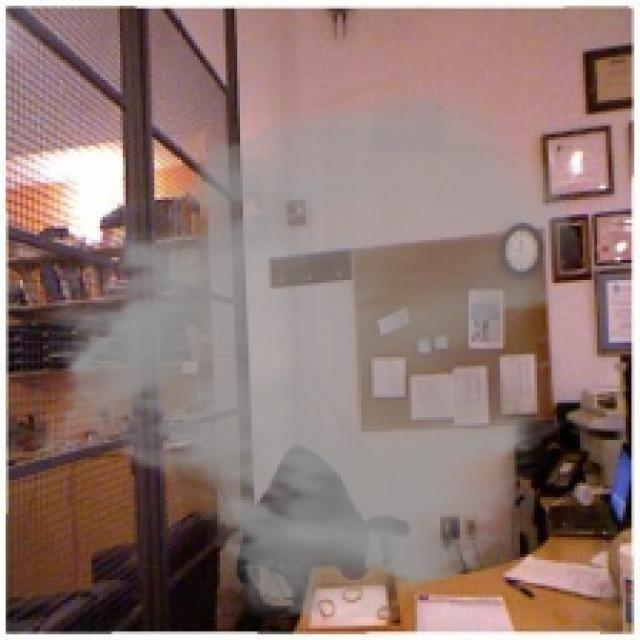Smoke: (28, 83, 586, 626)
